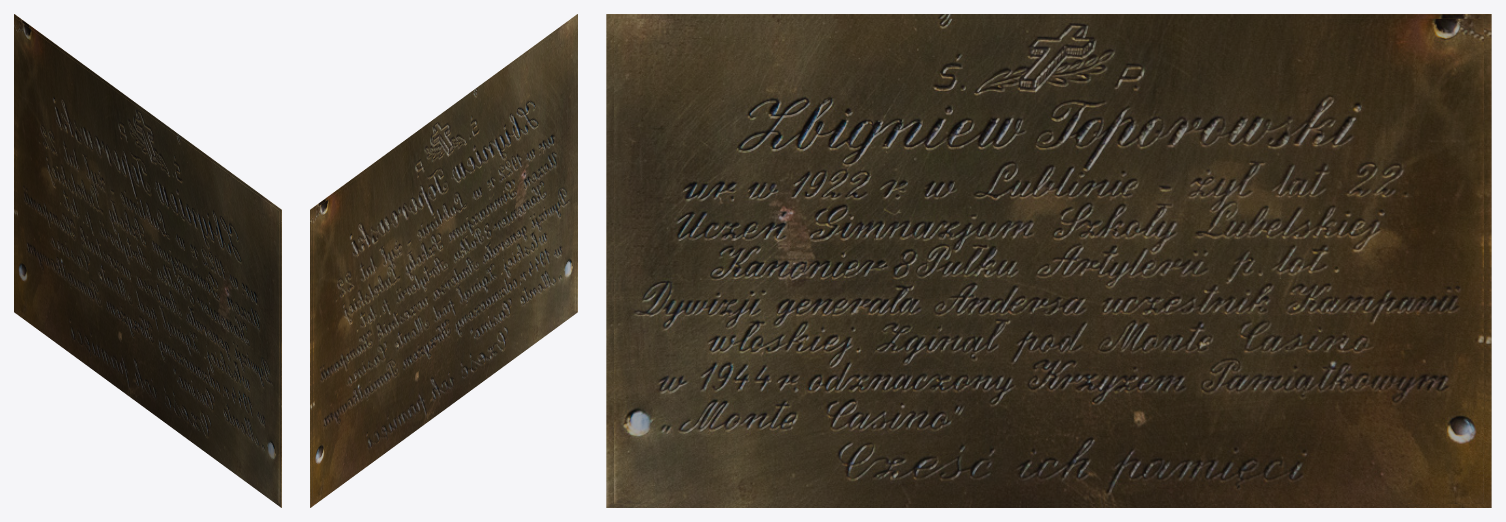
File: 109. Zbigniew TOPOROWSKI.glb
3 renders of one model, left to right at view 1: azimuth 30°, elevation 25°; view 2: azimuth 150°, elevation 25°; view 3: azimuth 270°, elevation 25°, orthographic. The views are drawn at different scales.
Visible parts, largest first — view 1: Plane; view 2: Plane; view 3: Plane.
Part boxes in pixels (<box>): Plane: <box>14,14,281,507</box>; Plane: <box>310,14,577,507</box>; Plane: <box>606,14,1491,507</box>.
Bounding box in the file's own units: 0.0246 × 8 × 13.
1 material, 1 textured.
